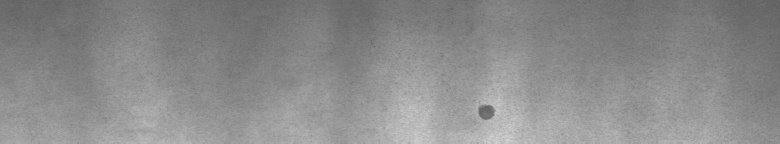fi: (472, 96, 500, 128)
